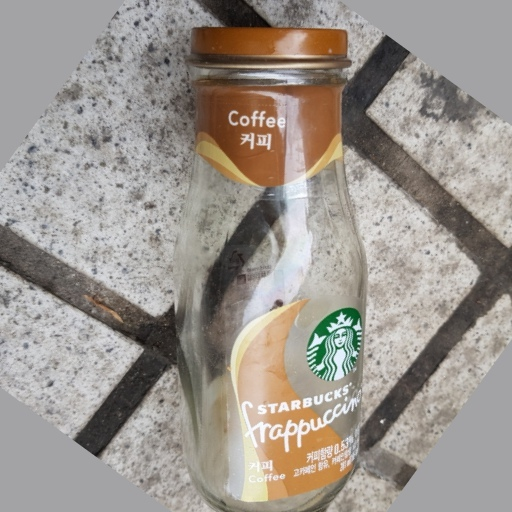Glass_4: (175, 23, 370, 512)
